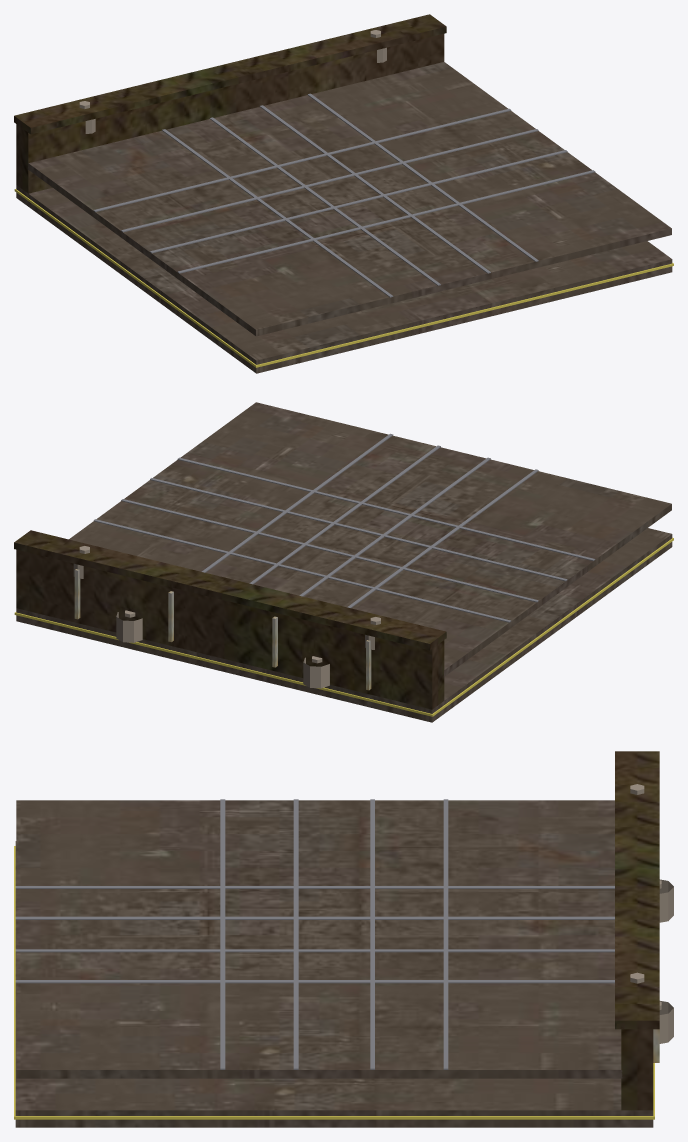
The model's file is conveyor_two_turn.glb.
3 views of the same model, one above another, from view 1: azimuth 30°, elevation 25°; view 2: azimuth 150°, elevation 25°; view 3: azimuth 270°, elevation 25° (orthographic). The views are drawn at different scales.
Parts seen in each view (by area): view 1: BeltSurface, BasePlate, Wall_front, WallCap_front, HazardStripe, BeltGroove_x0, BeltGroove_x2, BeltGroove_x1, BeltGroove_x3, BeltGroove_y0, BeltGroove_y2, BeltGroove_y1 (+1 smaller); view 2: BeltSurface, Wall_front, BasePlate, WallCap_front, HazardStripe, BeltGroove_x1, BeltGroove_x2, BeltGroove_x0, BeltGroove_x3, BeltGroove_y3, BeltGroove_y0, BeltGroove_y1 (+3 smaller); view 3: BeltSurface, BasePlate, WallCap_front, HazardStripe, Wall_front, BeltGroove_y2, BeltGroove_y3, BeltGroove_y1, BeltGroove_y0, BeltGroove_x0, BeltGroove_x3, BeltGroove_x1 (+3 smaller).
Part boxes in pixels (x1,y1,x2,y2): BeltSurface: (28, 62, 671, 336); BasePlate: (16, 185, 672, 373); Wall_front: (16, 34, 444, 193); WallCap_front: (14, 14, 446, 134); HazardStripe: (14, 189, 673, 367); BeltGroove_x0: (177, 170, 595, 273); BeltGroove_x2: (121, 129, 538, 232); BeltGroove_x1: (150, 150, 567, 253); BeltGroove_x3: (93, 108, 511, 211); BeltGroove_y0: (162, 129, 393, 297); BeltGroove_y2: (259, 105, 490, 273); BeltGroove_y1: (209, 117, 440, 285); BeltSurface: (69, 402, 671, 676); Wall_front: (16, 549, 444, 709); BasePlate: (16, 528, 672, 722); WallCap_front: (14, 530, 446, 650); HazardStripe: (14, 537, 673, 716); BeltGroove_x1: (150, 478, 567, 581); BeltGroove_x2: (121, 499, 538, 602); BeltGroove_x0: (177, 457, 595, 561); BeltGroove_x3: (93, 519, 510, 622); BeltGroove_y3: (201, 433, 393, 572); BeltGroove_y0: (347, 469, 538, 608); BeltGroove_y1: (299, 457, 490, 596); BeltSurface: (16, 800, 622, 1078); BasePlate: (15, 841, 653, 1127); WallCap_front: (615, 751, 659, 1029); HazardStripe: (14, 846, 654, 1119); Wall_front: (621, 1029, 653, 1110); BeltGroove_y2: (15, 949, 614, 952); BeltGroove_y3: (15, 980, 614, 983); BeltGroove_y1: (15, 916, 614, 919); BeltGroove_y0: (15, 886, 614, 888); BeltGroove_x0: (220, 799, 225, 1069); BeltGroove_x3: (443, 799, 448, 1069); BeltGroove_x1: (293, 799, 298, 1069).
Size of the model in its own units: 1 by 0.1925 by 1.03.
12 materials, 9 textured.
